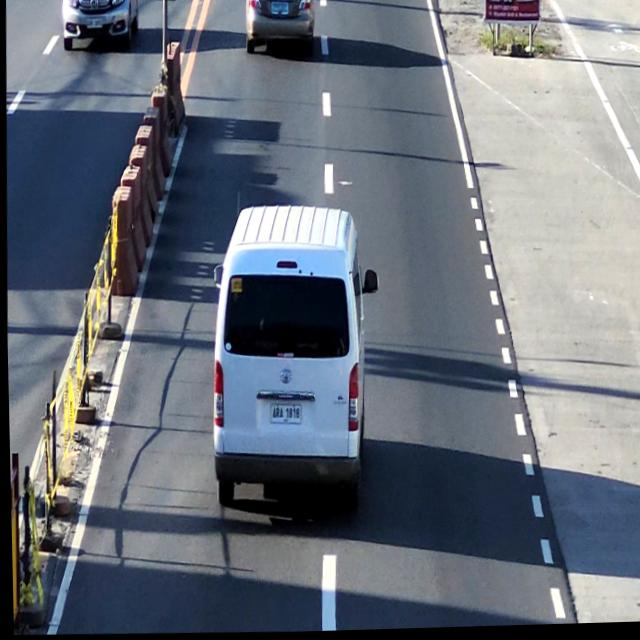Car: (207, 205, 363, 521), (245, 0, 313, 53)
License-Plate: (266, 404, 298, 427), (269, 2, 287, 14)
